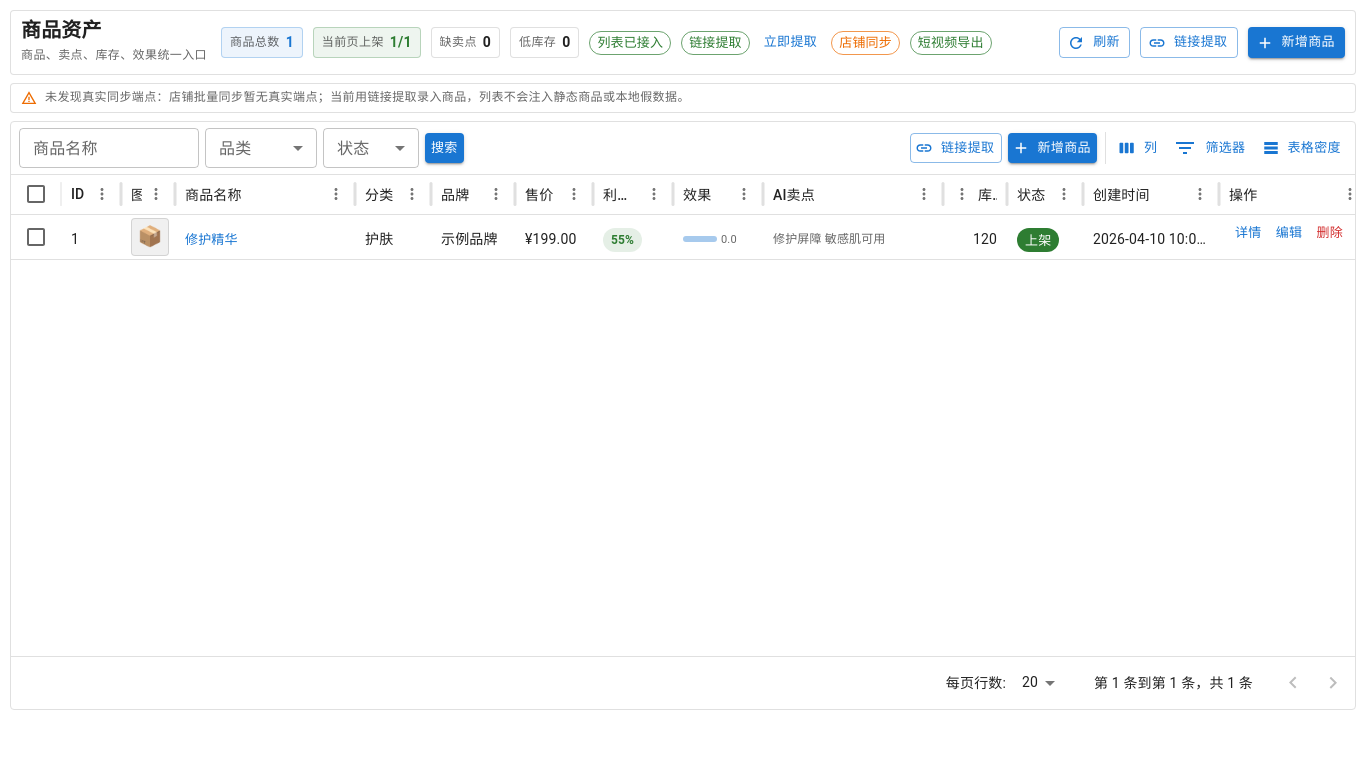
Scenario: ProductsPage › opens link extraction from capability card action
Click the button "立即提取" at (791, 42), box top-left (760, 27), bottom-right (821, 58)
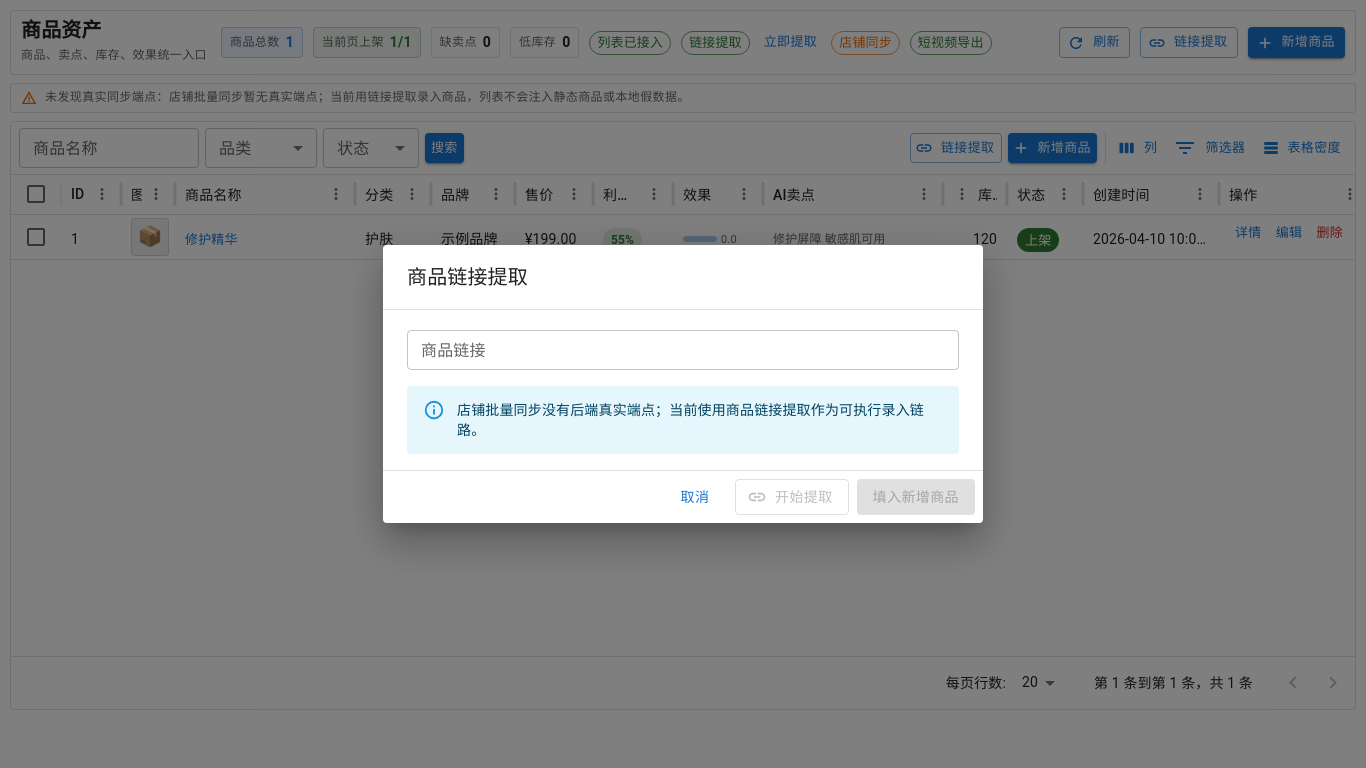
Result: the dialog "商品链接提取" is shown at top-left (383, 245), bottom-right (983, 523)
